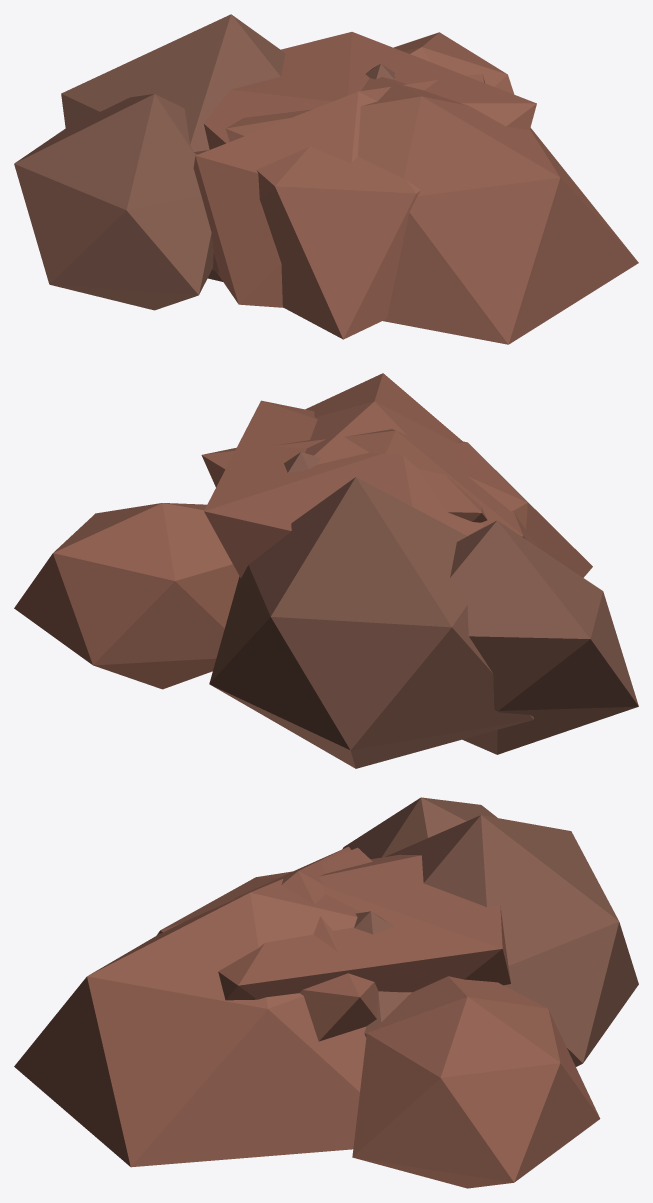
The model's file is ScoriaHeap.glb.
The picture shows the model from 3 angles, top to bottom: view 1: azimuth 30°, elevation 25°; view 2: azimuth 150°, elevation 25°; view 3: azimuth 270°, elevation 25°; orthographic projection. The views are drawn at different scales.
Parts seen in each view (by area): view 1: Scoria.001, Scoria.005, Scoria.004, Scoria.006, Scoria.003, Scoria; view 2: Scoria.003, Scoria, Scoria.004, Scoria.005, Scoria.001, Scoria.006; view 3: Scoria.001, Scoria, Scoria.003, Scoria.005, Scoria.006, Scoria.004, Scoria.002.
Boxes of the visible parts, <box> form: Scoria.001: <box>225,77,638,344</box>; Scoria.005: <box>203,32,536,339</box>; Scoria.004: <box>14,94,213,310</box>; Scoria.006: <box>193,73,484,307</box>; Scoria.003: <box>61,14,285,281</box>; Scoria: <box>393,32,514,94</box>; Scoria.003: <box>209,477,533,768</box>; Scoria: <box>14,503,239,689</box>; Scoria.004: <box>450,520,638,754</box>; Scoria.005: <box>204,400,592,577</box>; Scoria.001: <box>305,373,487,522</box>; Scoria.006: <box>201,429,539,548</box>; Scoria.001: <box>14,847,411,1167</box>; Scoria: <box>352,976,600,1188</box>; Scoria.003: <box>385,815,638,1066</box>; Scoria.005: <box>156,854,510,1000</box>; Scoria.006: <box>234,846,378,1041</box>; Scoria.004: <box>342,797,497,859</box>; Scoria.002: <box>354,911,408,1037</box>.
Bounding box in the file's own units: 1.52 × 0.7474 × 1.41.
